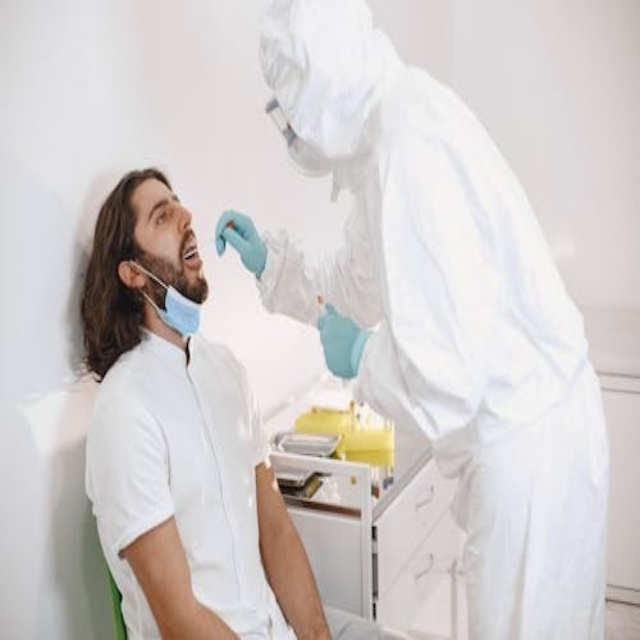Gafas: (261, 85, 311, 136)
Guantes: (317, 302, 373, 383), (215, 209, 268, 280)
Mascara: (283, 131, 334, 186)
Sin_gafas: (143, 186, 183, 231)
Sin_mascara: (173, 229, 204, 277)
